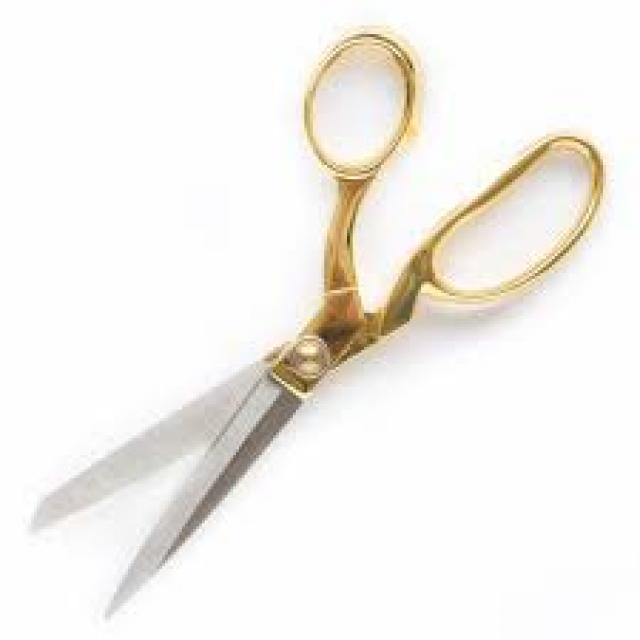scissor: (28, 29, 604, 621)
